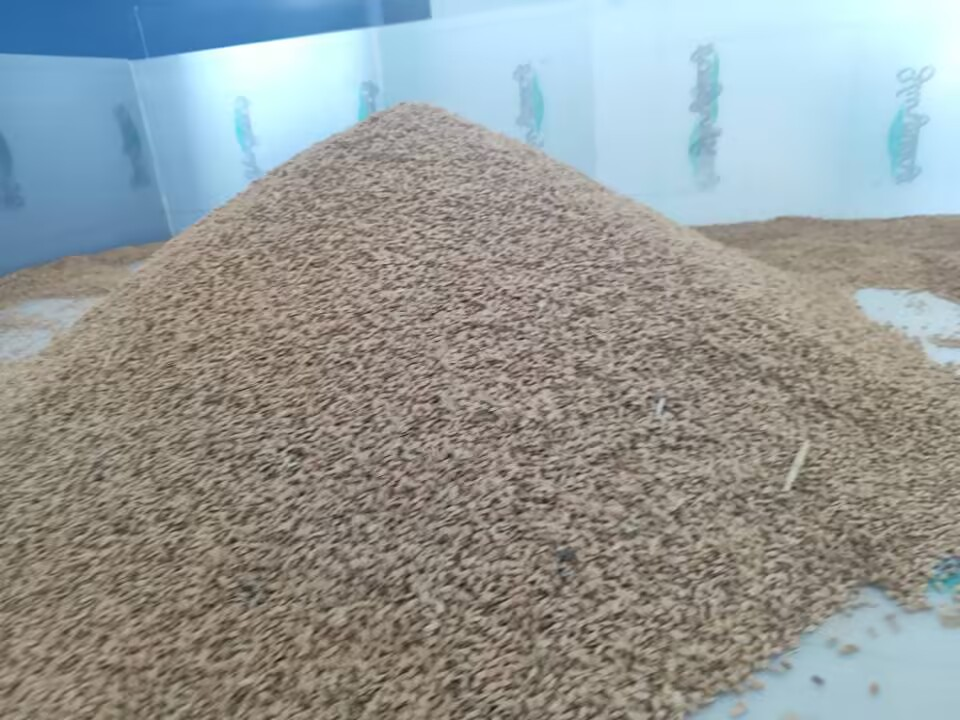Grain: (110, 91, 854, 656)
